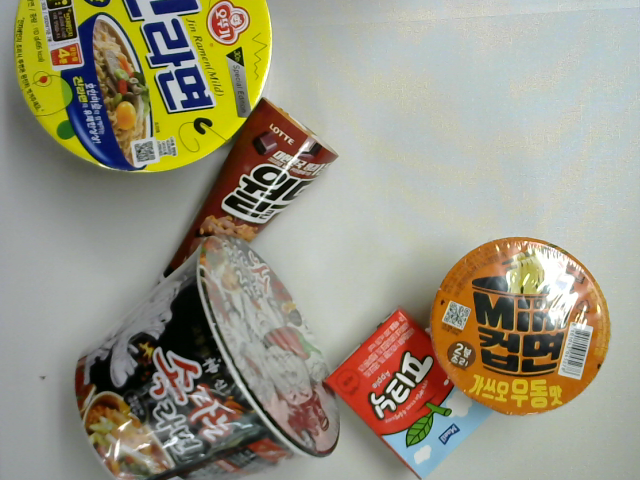HeJangsock: (68, 230, 347, 480)
Jinlamyeon_Mild_Taste_Large_Cup: (6, 1, 288, 183)
Picnic_Apple: (325, 301, 496, 480)
Udongmini: (425, 231, 610, 419)
World_Cone_Choco: (128, 89, 340, 345)
